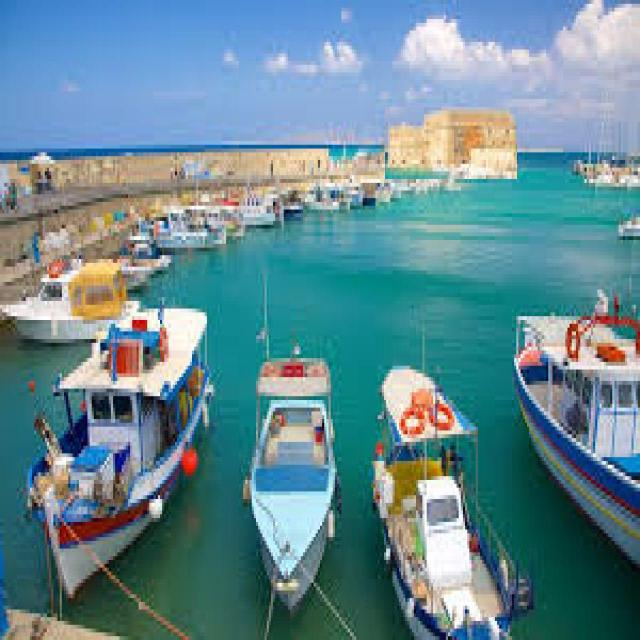Kules: (386, 108, 518, 180)
